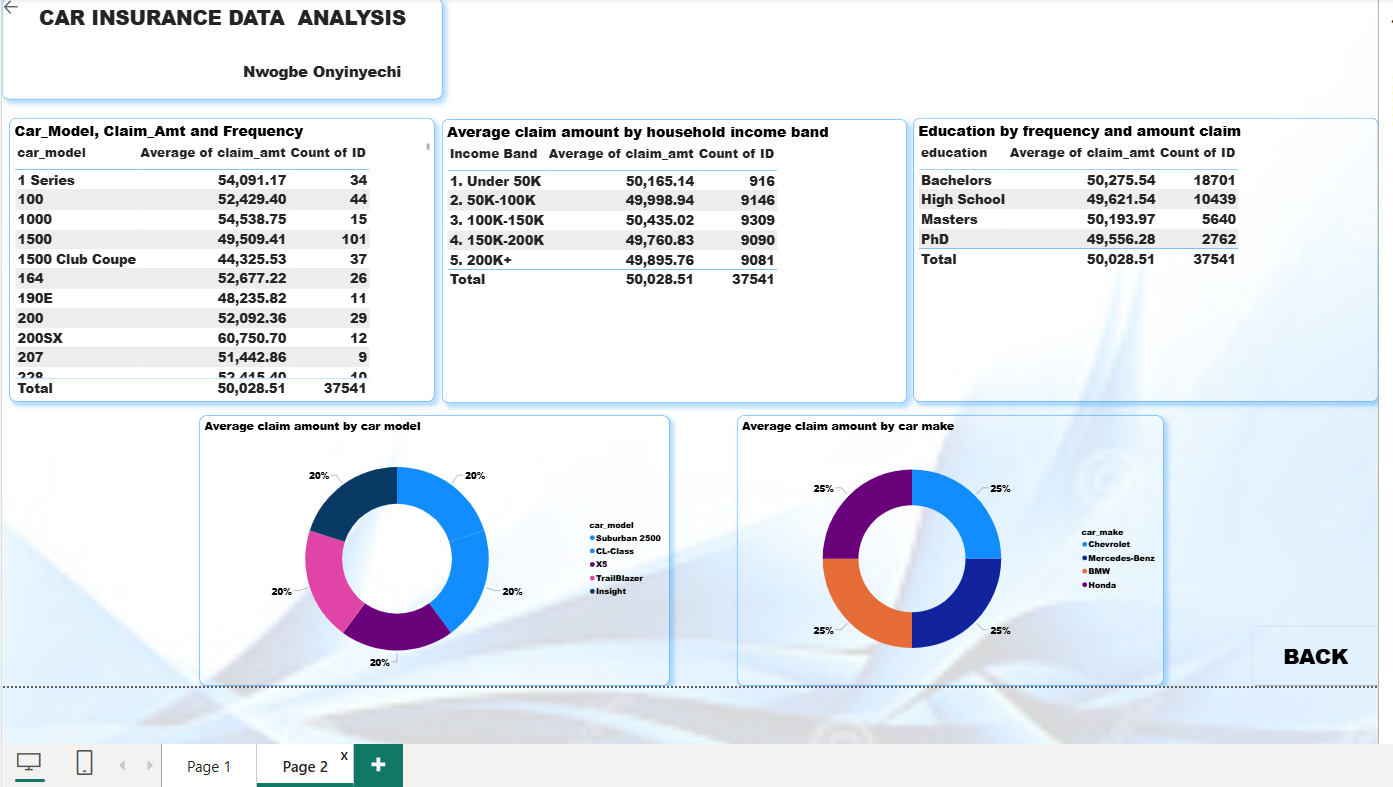

The dashboard page shown, as its layout file describes it:
{"tool":"powerbi","page":{"name":"Page 2","canvas":[3000,1500],"ordinal":1},"visuals":[{"type":"tableEx","title":"Household income by frequency and amount claim","fields":{"Values":["Insurance_Policies.car_model","Sum(Insurance Policies.claim_amt)","Count(Insurance Policies.claim_freq)"]},"box":[16.4,261.6,926.6,618.6],"z":0},{"type":"textbox","box":[0,0,960,221],"z":1000},{"type":"tableEx","title":"Household income by frequency and amount claim","fields":{"Values":["Insurance Policies.household_income","Sum(Insurance Policies.claim_amt)","Count(Insurance Policies.claim_freq)"]},"box":[972.9,261.6,1013.8,618.6],"z":2000},{"type":"tableEx","title":"Household income by frequency and amount claim","fields":{"Values":["Insurance_Policies.education","Sum(Insurance Policies.claim_amt)","Count(Insurance Policies.claim_freq)"]},"box":[1986.7,261.6,1013.8,618.6],"z":3000},{"type":"actionButton","box":[0,0,100,40],"z":4000},{"type":"actionButton","box":[2728,1370.8,272.5,128.1],"z":5000},{"type":"donutChart","title":"Average claim amount by car model","fields":{"Category":["Insurance Policies.car_model"],"Y":["Avg(Insurance Policies.claim_amt)"]},"box":[430.6,910.2,1024.7,588.7],"z":6000},{"type":"donutChart","title":"Average claim amount by car make","fields":{"Category":["Insurance Policies.car_make"],"Y":["Avg(Insurance Policies.claim_amt)"]},"box":[1602.5,910.2,929.3,588.7],"z":7000}]}

Visuals, with their boxes on the page's 3000x1500 design canvas (x1, y1, x2, y2). These are canvas units, not pixel positions in the 1393x787 screenshot, which may show the page scaled, cropped or inside an application window:
"Household income by frequency and amount claim" tableEx: locate(16, 262, 943, 880)
textbox: locate(0, 0, 960, 221)
"Household income by frequency and amount claim" tableEx: locate(973, 262, 1987, 880)
"Household income by frequency and amount claim" tableEx: locate(1987, 262, 3000, 880)
actionButton: locate(0, 0, 100, 40)
actionButton: locate(2728, 1371, 3000, 1499)
"Average claim amount by car model" donutChart: locate(431, 910, 1455, 1499)
"Average claim amount by car make" donutChart: locate(1602, 910, 2532, 1499)
